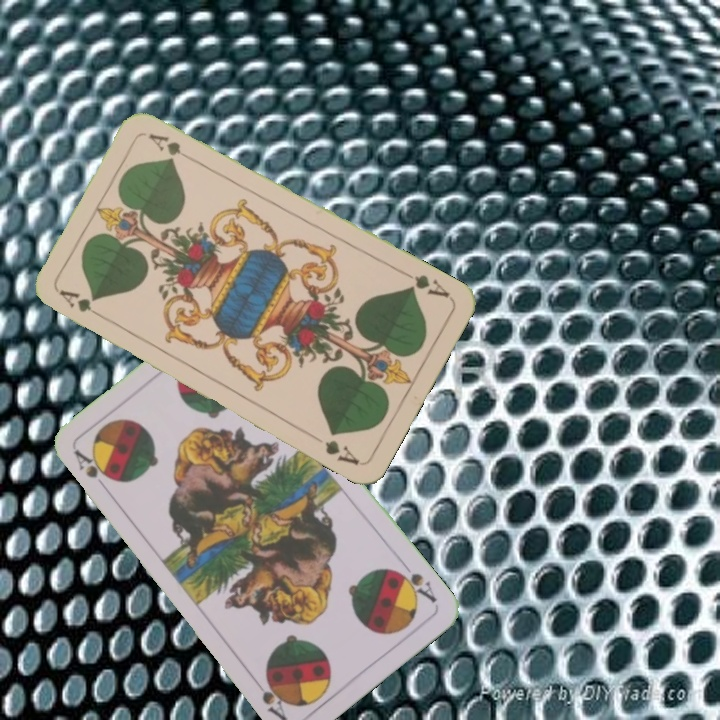GA: (55, 285, 108, 323), (398, 267, 453, 301)
SA: (390, 565, 440, 606), (69, 445, 114, 484)
